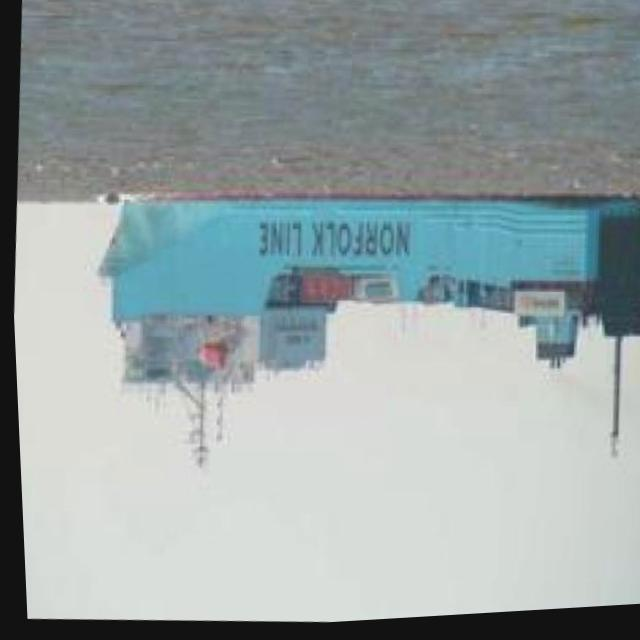ship2: (93, 199, 640, 476)
